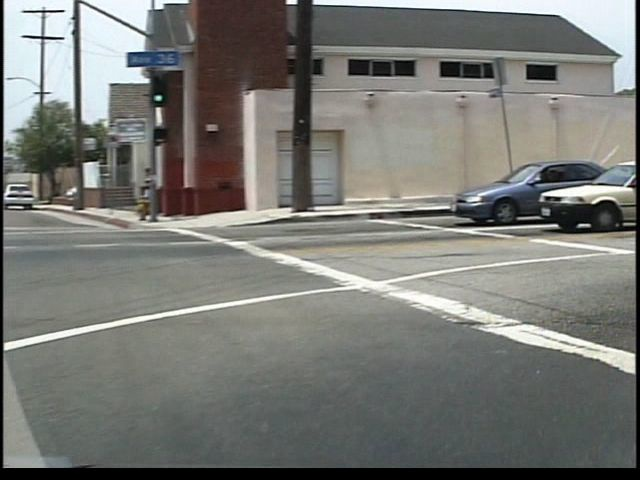person: (147, 165, 168, 222)
